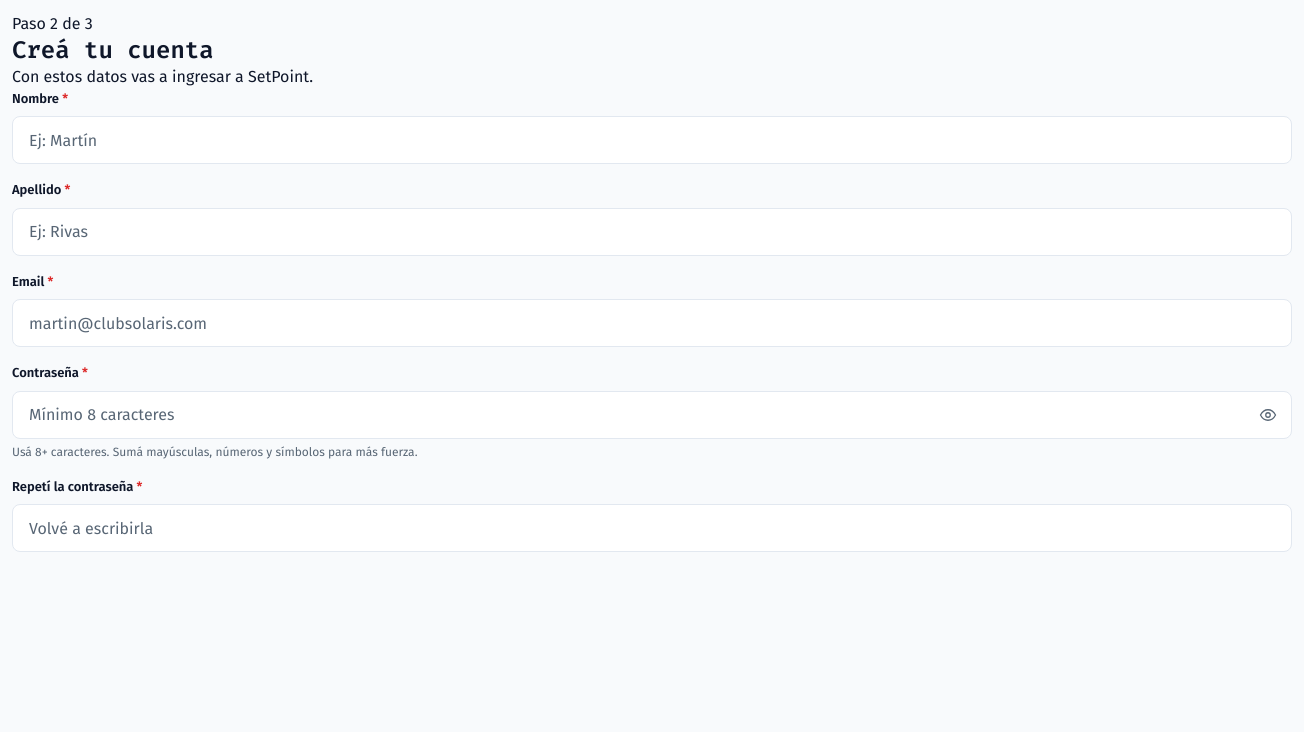
Test: AccountStepComponent › muestra el medidor de fuerza al tipear
Type "abcdefgH9!" into the password field labelled "Contraseña *" at [652, 415], box [12,391,1292,439]
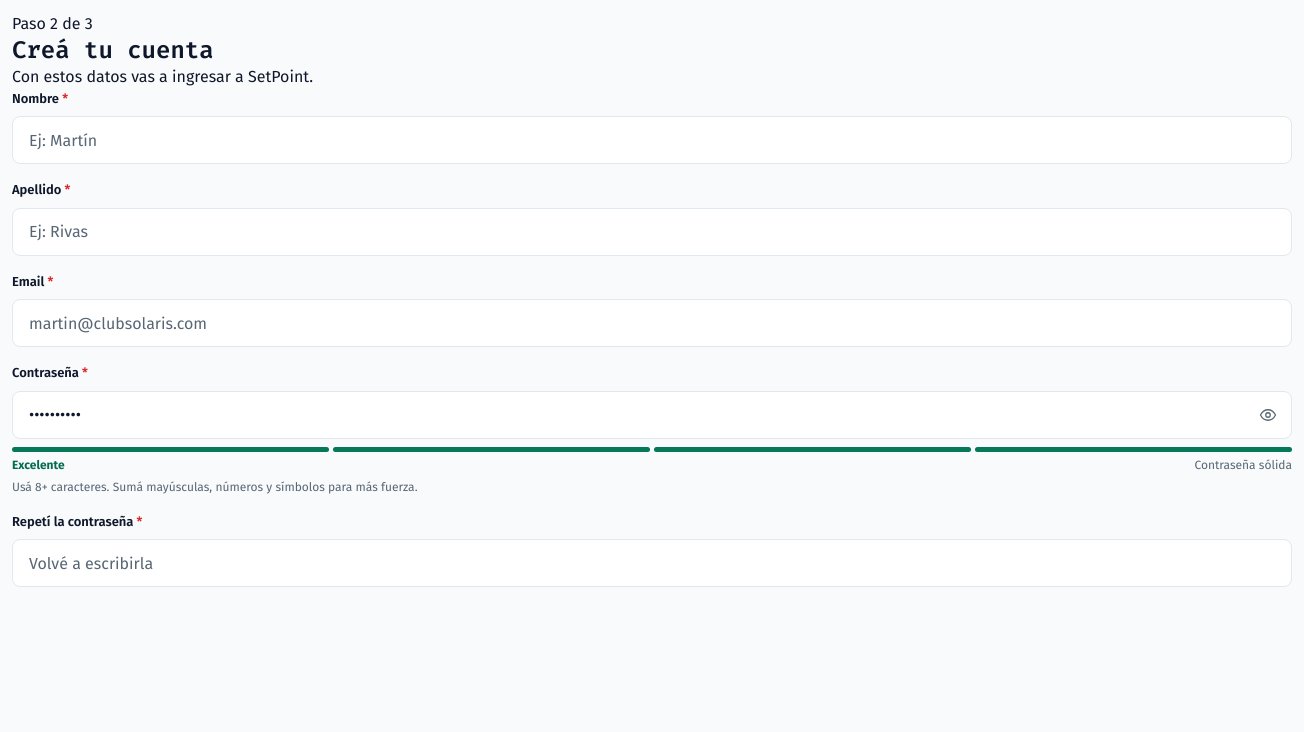
Check: the element showing "Excelente Contraseña sólida" is shown, box [12,447,1292,474]
Check: the text "Excelente" is shown, box [12,456,64,474]
